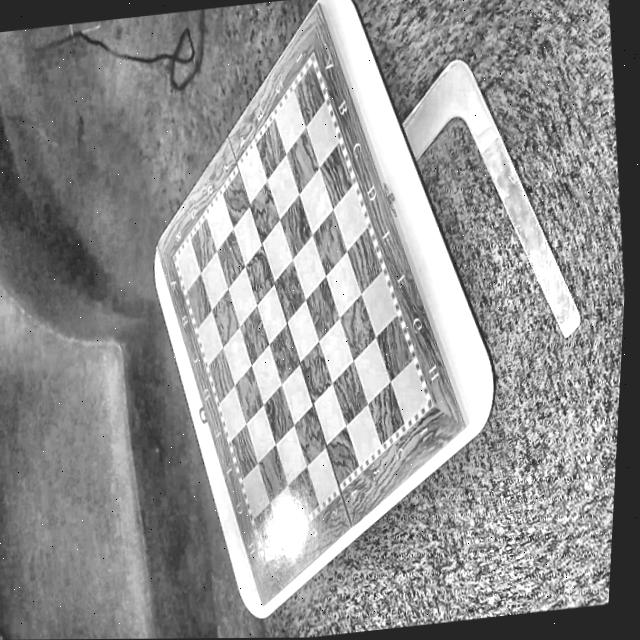chessboard: (175, 62, 426, 556)
